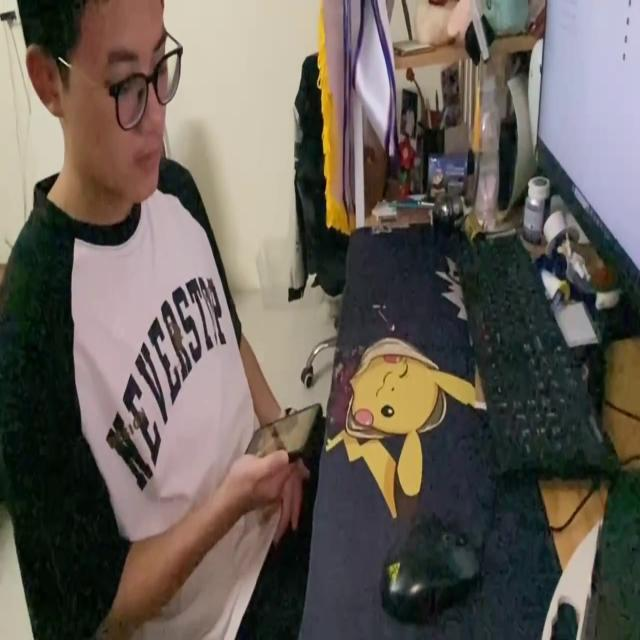laptop: (530, 0, 640, 316)
phone: (241, 398, 322, 467)
student: (1, 0, 314, 638)
